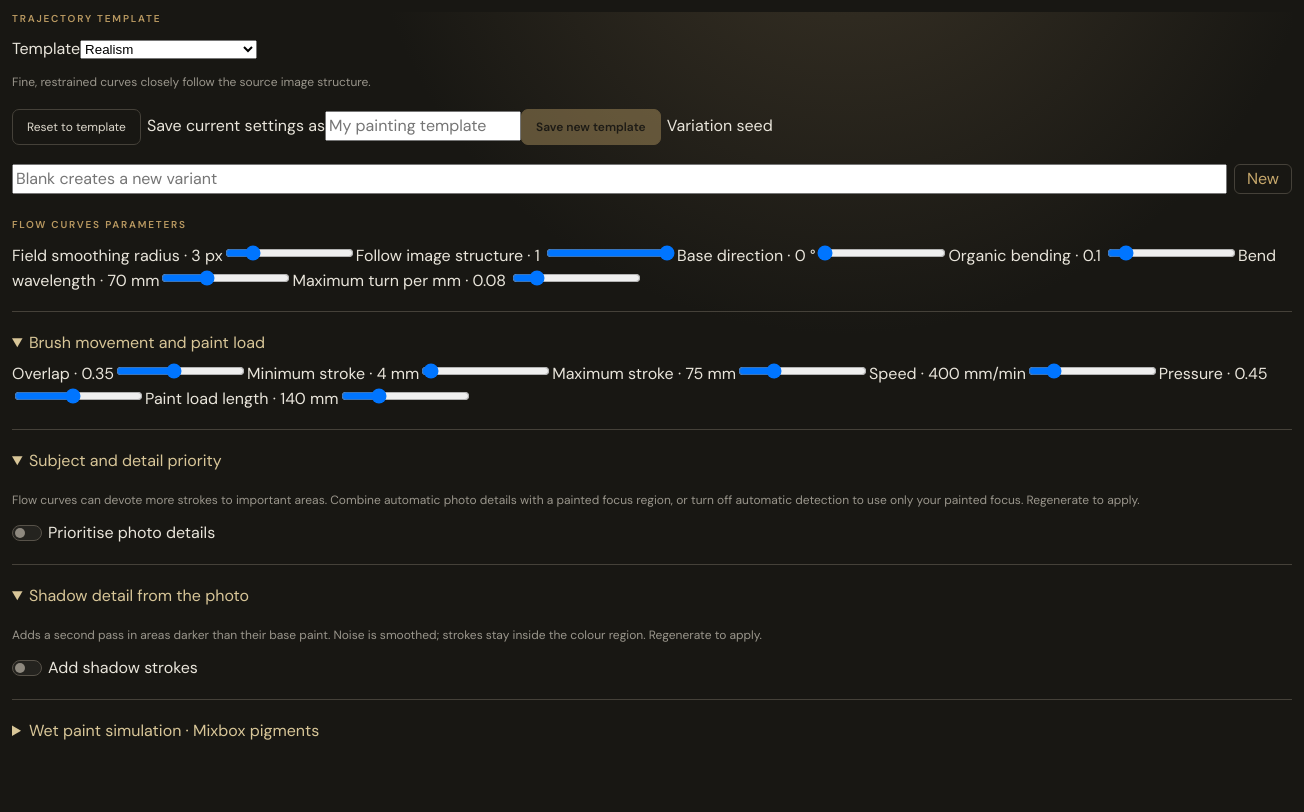
it: selecting a recipe reveals its parameters; edits and reset affect the project
This screenshot has width=1304, height=812.
Step 1. Select "Flow curves" in the dropdown labelled "Template" → (169, 50), box [80, 40, 257, 59]
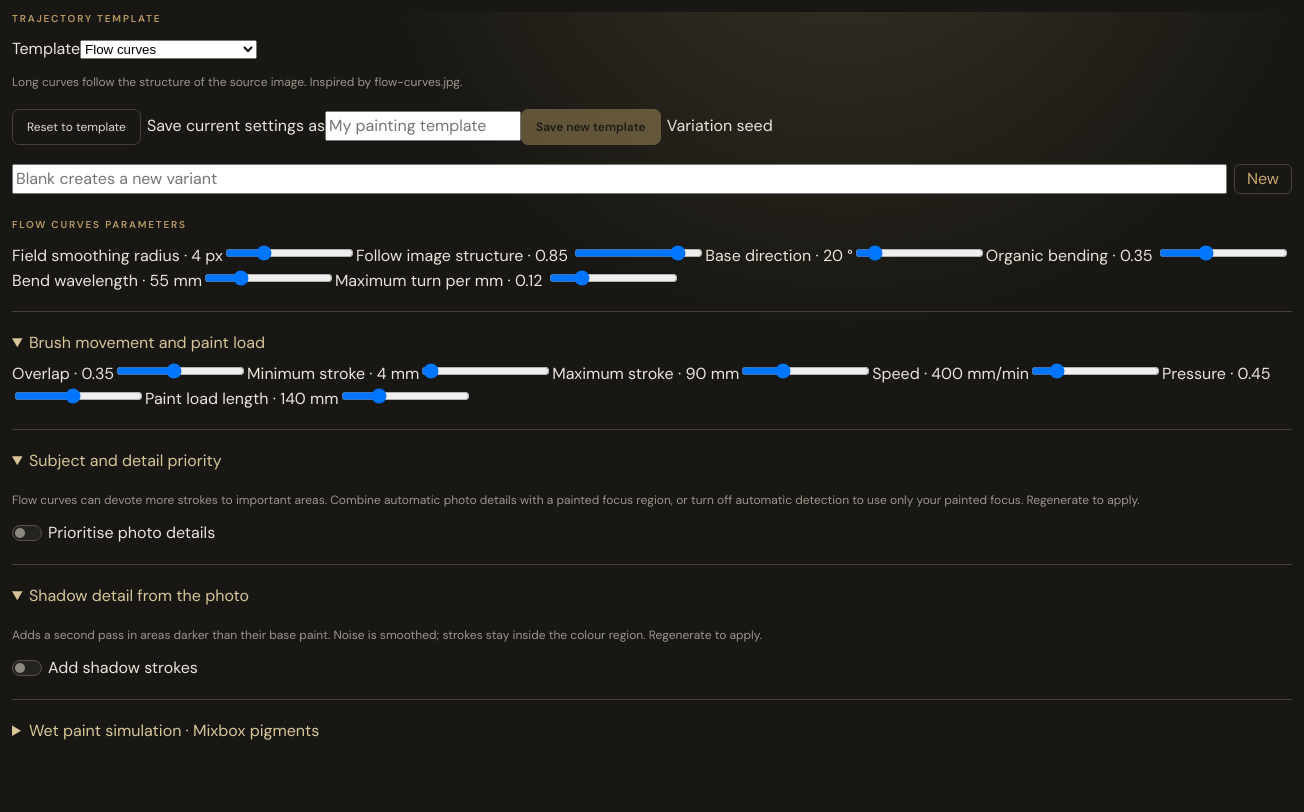
Step 2. Set the slider labelled "Organic bending · 0.35" to ".7" → (1223, 253), box [1159, 245, 1288, 261]
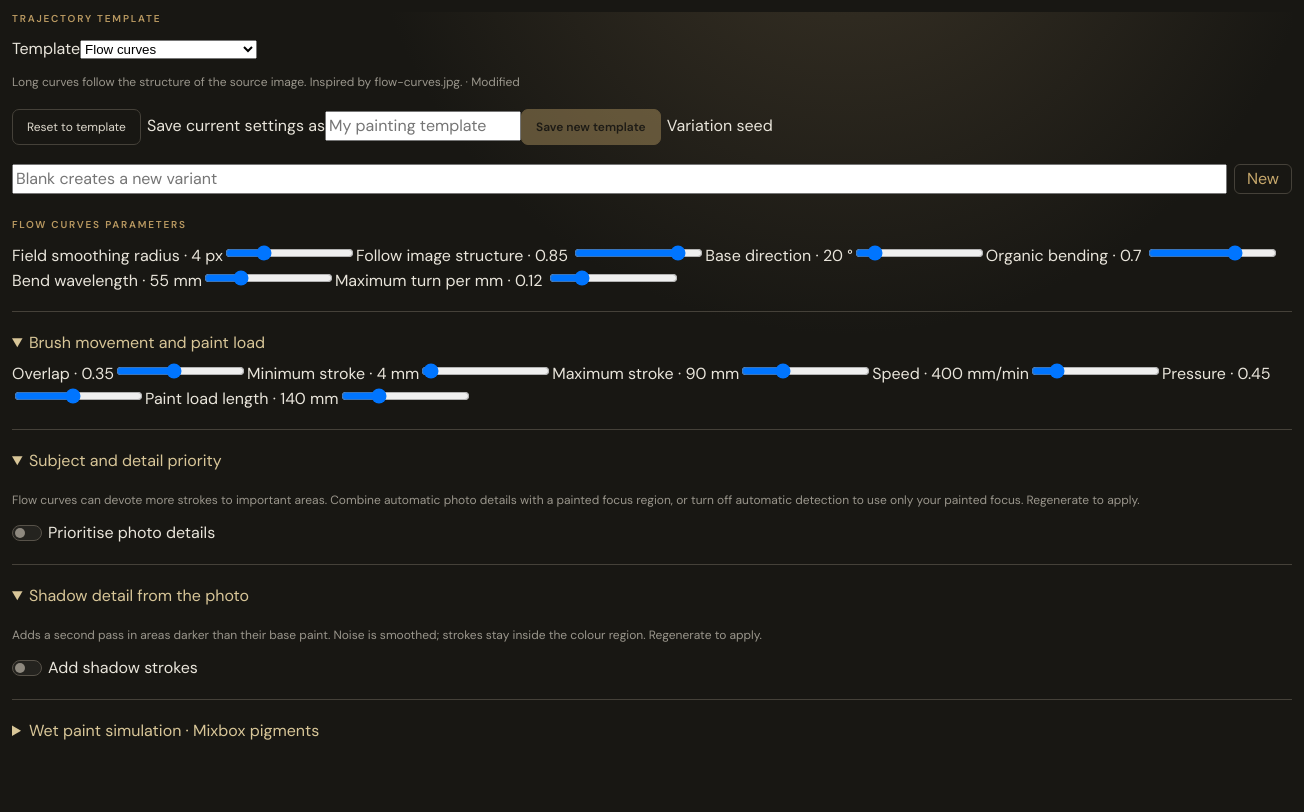
Step 3. Click the button "Reset to template" → (76, 127), box [12, 109, 141, 145]
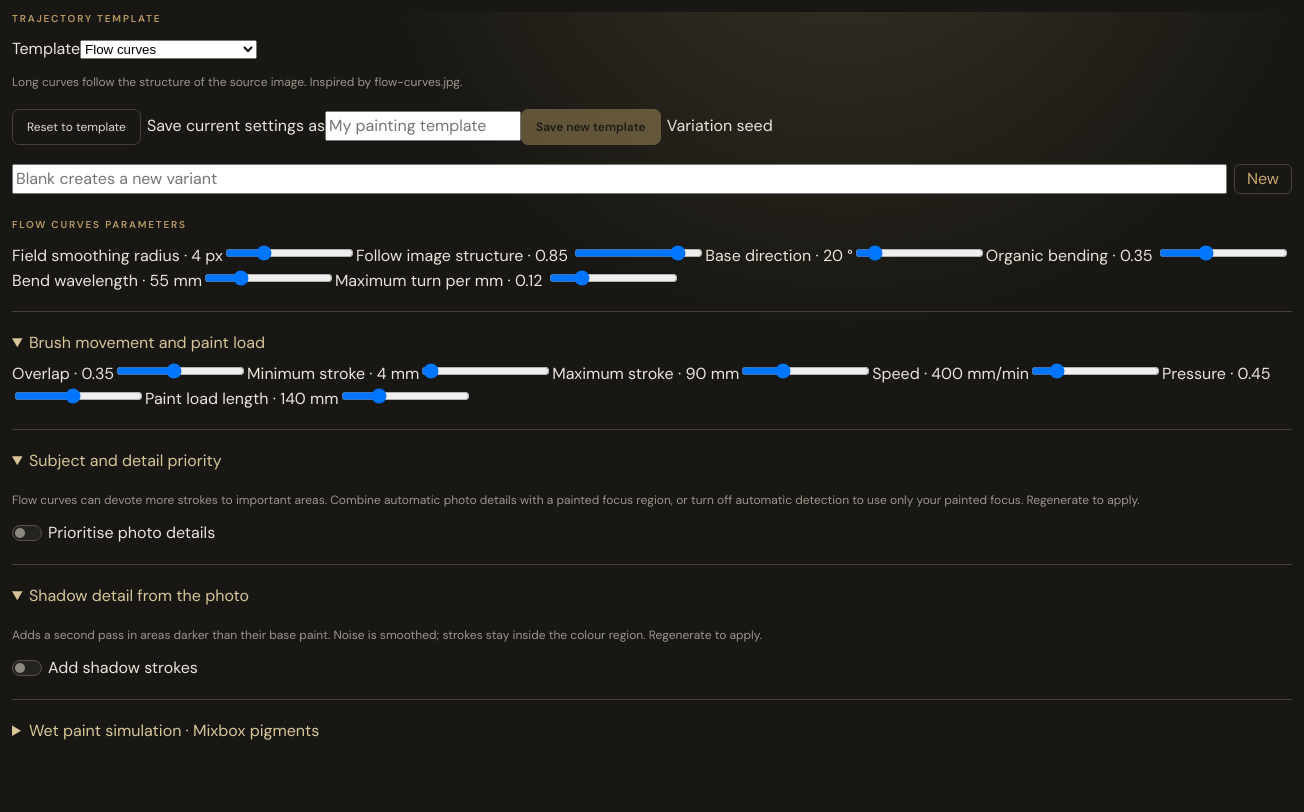
Result: the slider labelled "Organic bending · 0.35" holds "0.35" at [1159, 245, 1288, 261]
